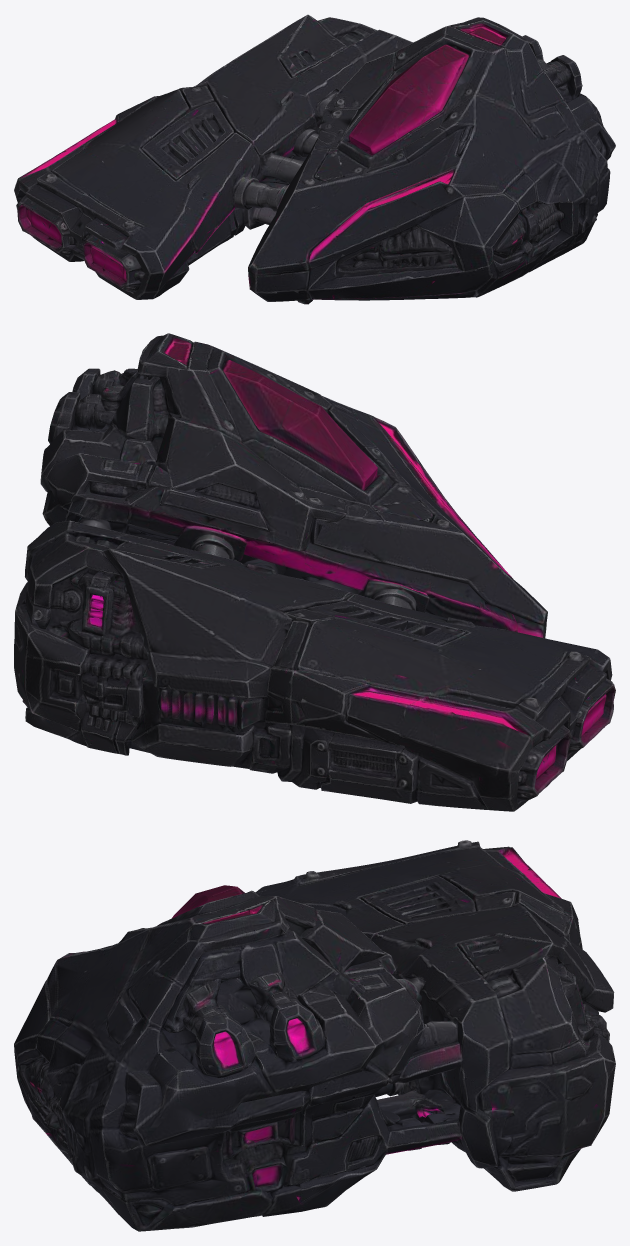
Rendered from drakon.glb.
3 views of the same model, one above another, from view 1: azimuth 30°, elevation 25°; view 2: azimuth 150°, elevation 25°; view 3: azimuth 270°, elevation 25° (orthographic). The views are drawn at different scales.
Bounding box in the file's own units: 1.89 × 0.7962 × 1.54.
1 material, 1 textured.
